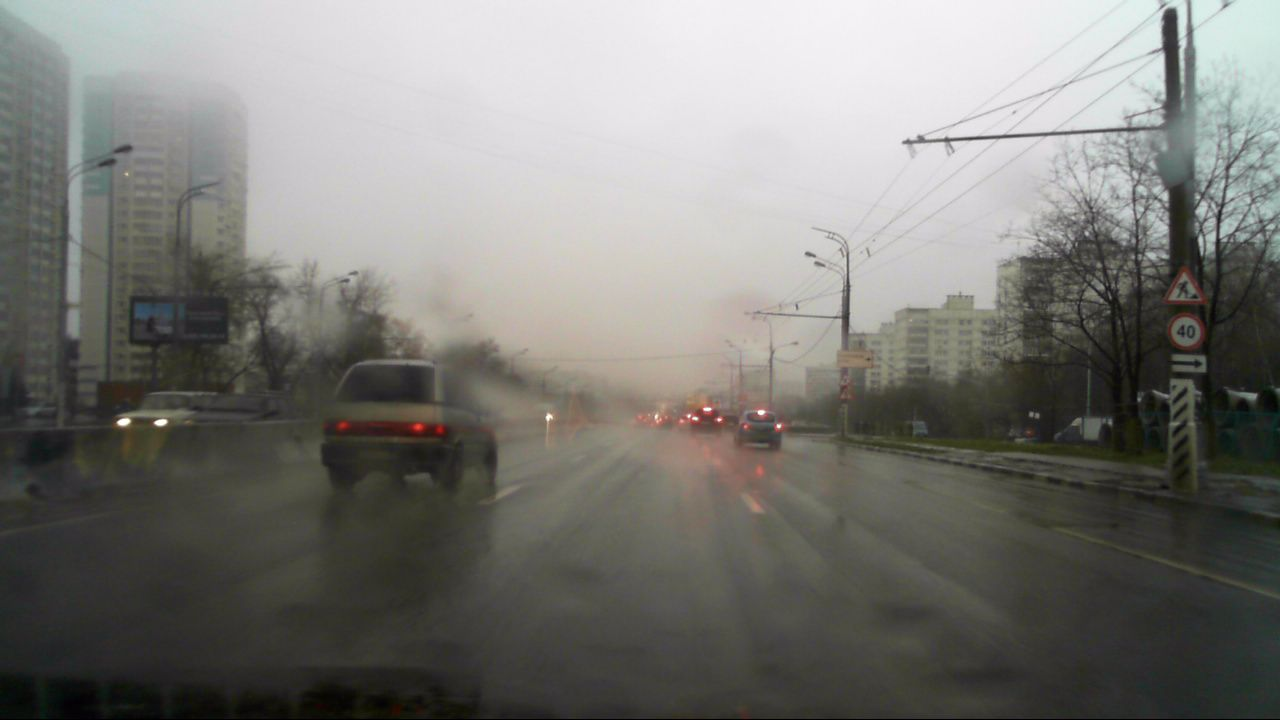speed_warning_40: (1167, 314, 1204, 349)
